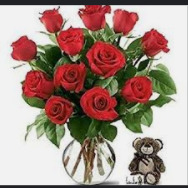RedRose: (84, 41, 126, 79), (80, 86, 119, 122), (44, 95, 77, 127), (53, 62, 87, 93), (56, 25, 87, 58), (139, 28, 170, 61), (122, 75, 154, 106), (21, 68, 52, 100), (111, 7, 139, 40)
